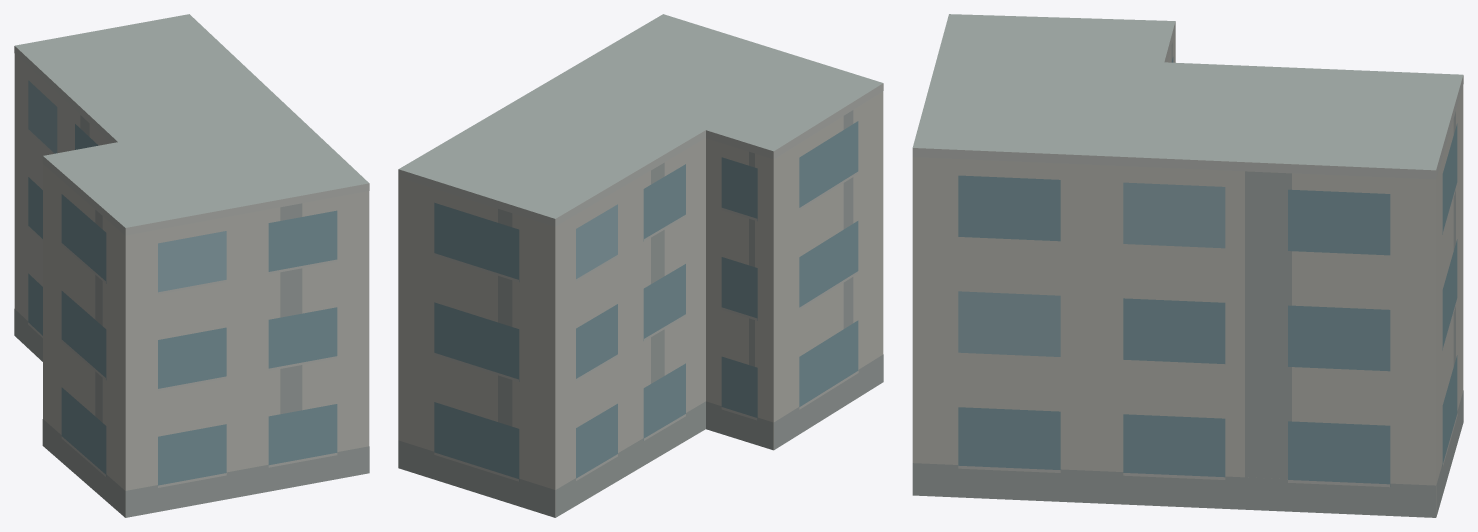
File: survey-upis-32553670.glb
3 renders of one model, left to right at view 1: azimuth 30°, elevation 25°; view 2: azimuth 150°, elevation 25°; view 3: azimuth 270°, elevation 25°, orthographic. The views are drawn at different scales.
Parts seen in each view (by area): view 1: survey-upis-32553670.tmp; view 2: survey-upis-32553670.tmp; view 3: survey-upis-32553670.tmp.
Boxes of the visible parts, x1,y1,x2,y2 form: survey-upis-32553670.tmp: (14,14,369,517); survey-upis-32553670.tmp: (398,14,883,517); survey-upis-32553670.tmp: (912,14,1463,517).
Size of the model in its own units: 8.84 by 9.15 by 13.16.
